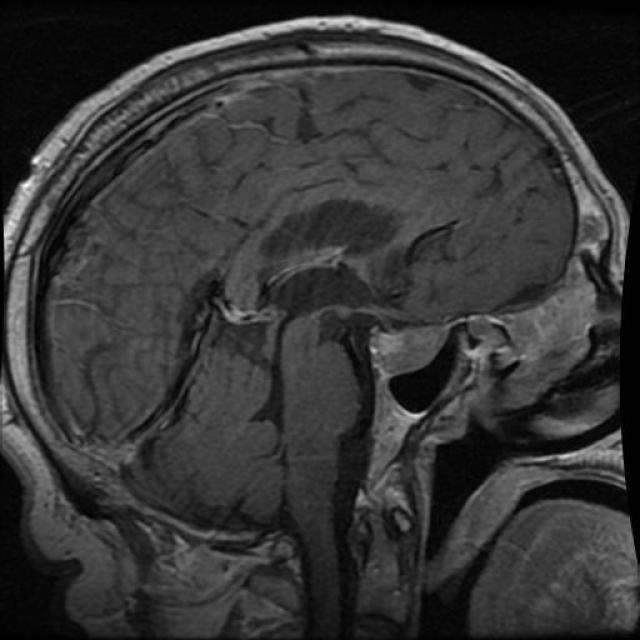pituitary: (350, 288, 452, 522)
